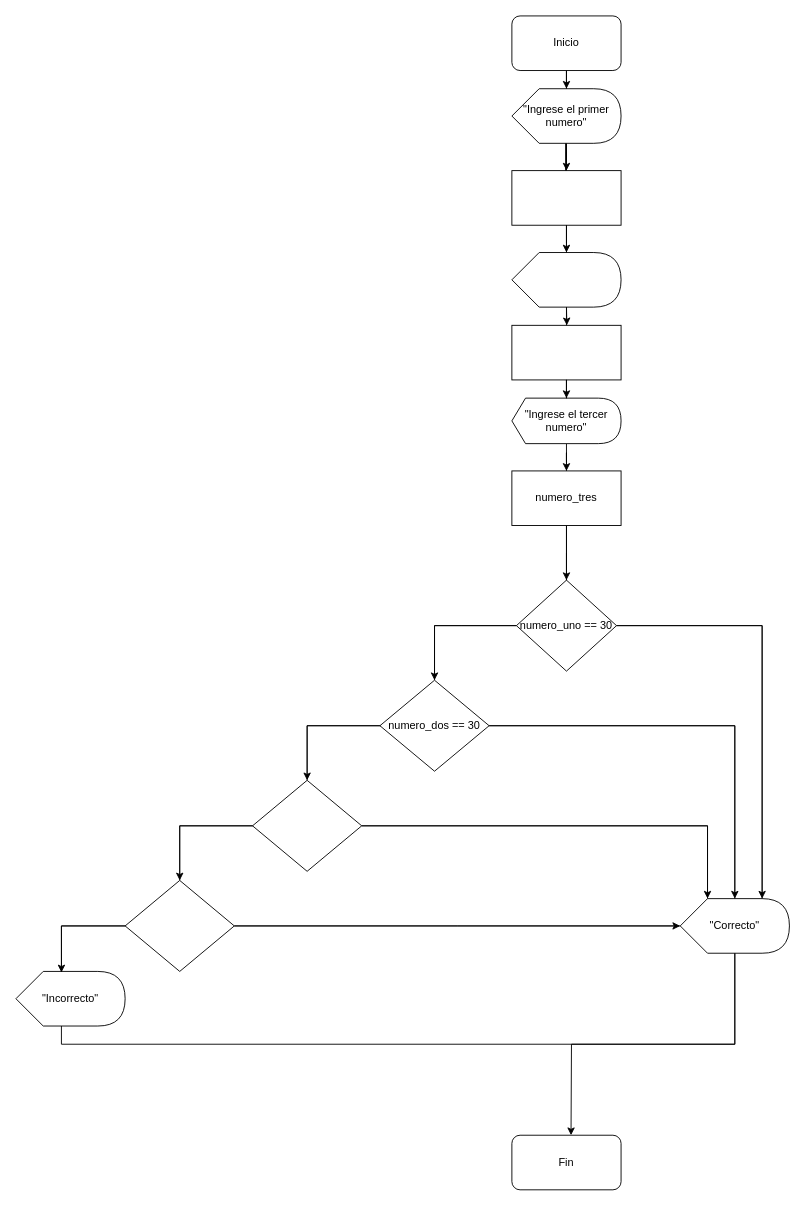
This 805x1206 diagram has some shape labels left out. Each missing label, with the box of its shape:
"Ingrese el segundo numero": (511, 252, 621, 307)
numero_dos: (511, 324, 621, 380)
numero_tres == 30: (252, 779, 362, 871)
numero_uno: (511, 170, 621, 225)
numero_uno + numero_dos + numero tres == 30: (124, 880, 234, 971)
